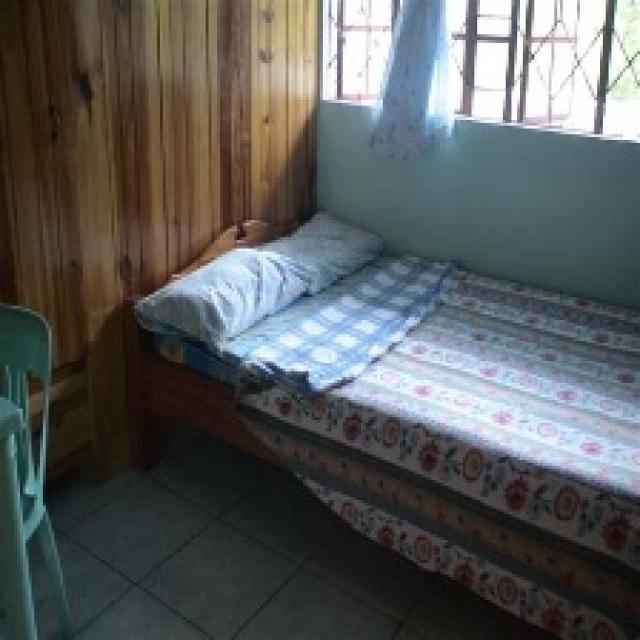Bed: (129, 209, 637, 637)
